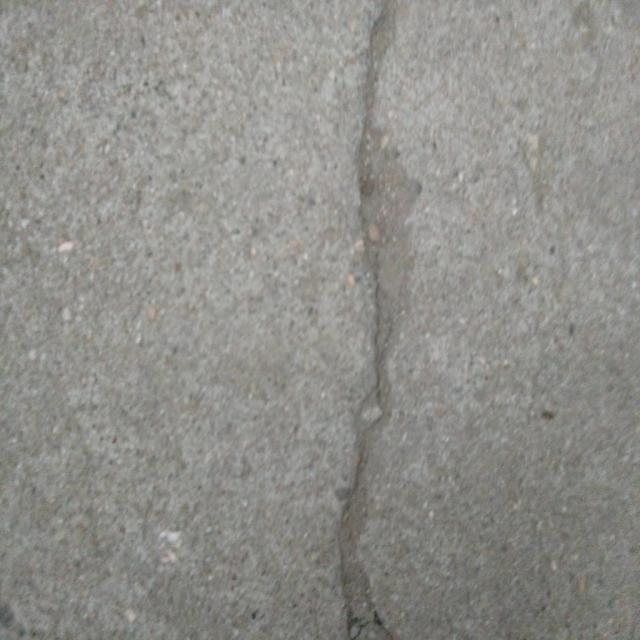cracks: (299, 0, 449, 640)
